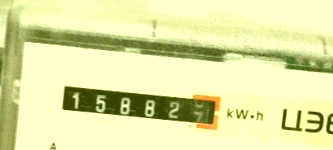1: (68, 88, 82, 109)
2: (166, 98, 181, 119)
5: (93, 91, 107, 113)
7: (191, 108, 204, 124)
8: (117, 93, 132, 116), (142, 96, 157, 119)
screen: (52, 71, 231, 137)
